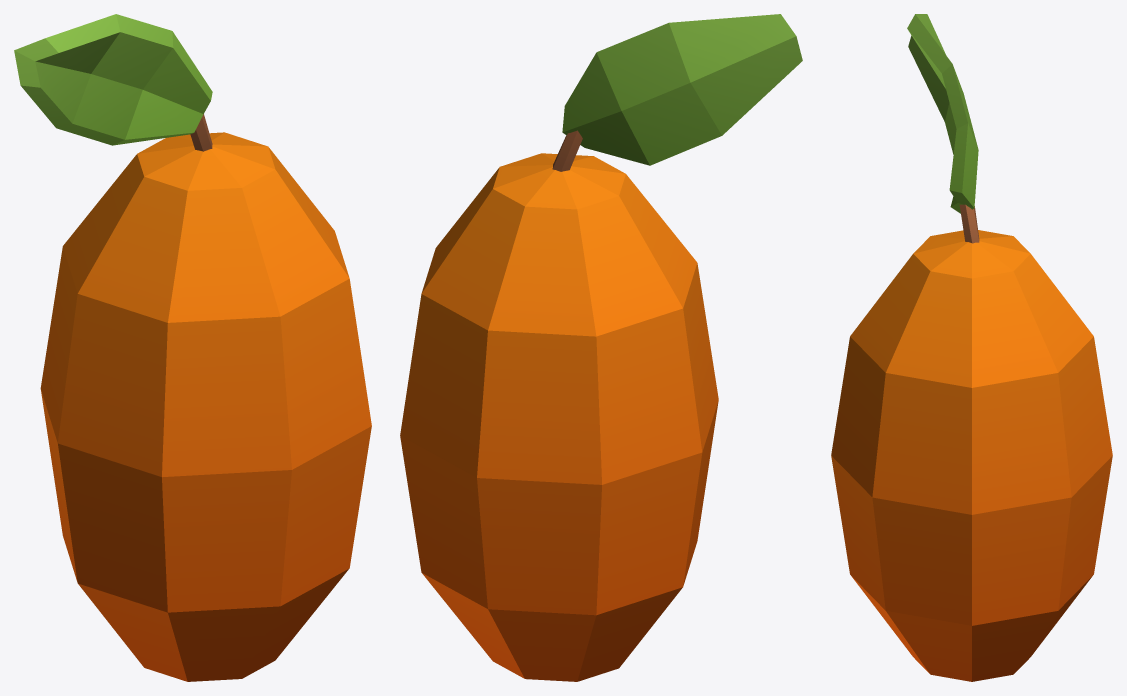
File: Kumquat.fbx
3 renders of one model, left to right at view 1: azimuth 30°, elevation 25°; view 2: azimuth 150°, elevation 25°; view 3: azimuth 270°, elevation 25°, orthographic. The views are drawn at different scales.
Visible parts, largest first — view 1: Kumquat; view 2: Kumquat; view 3: Kumquat.
Boxes of the visible parts, box(x1,y1,x2,y2) form: Kumquat: box(14, 14, 371, 681); Kumquat: box(400, 14, 802, 681); Kumquat: box(831, 14, 1112, 681).
Size of the model in its own units: 8.61 by 15.76 by 6.95.
